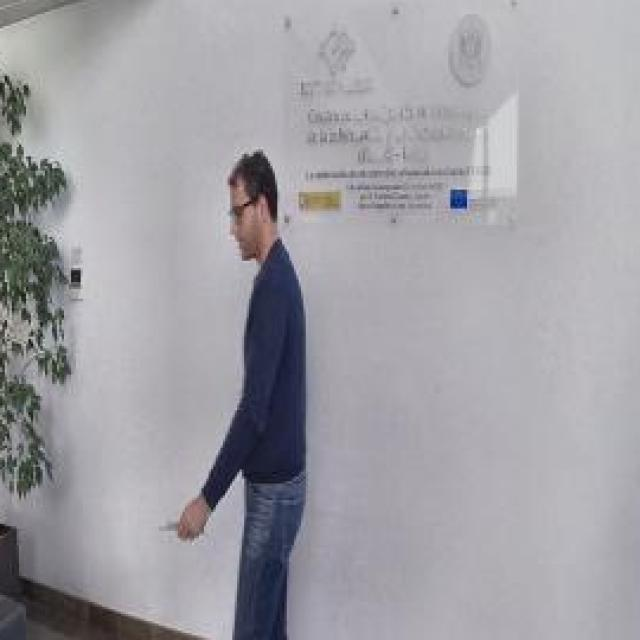knife: (152, 512, 208, 545)
